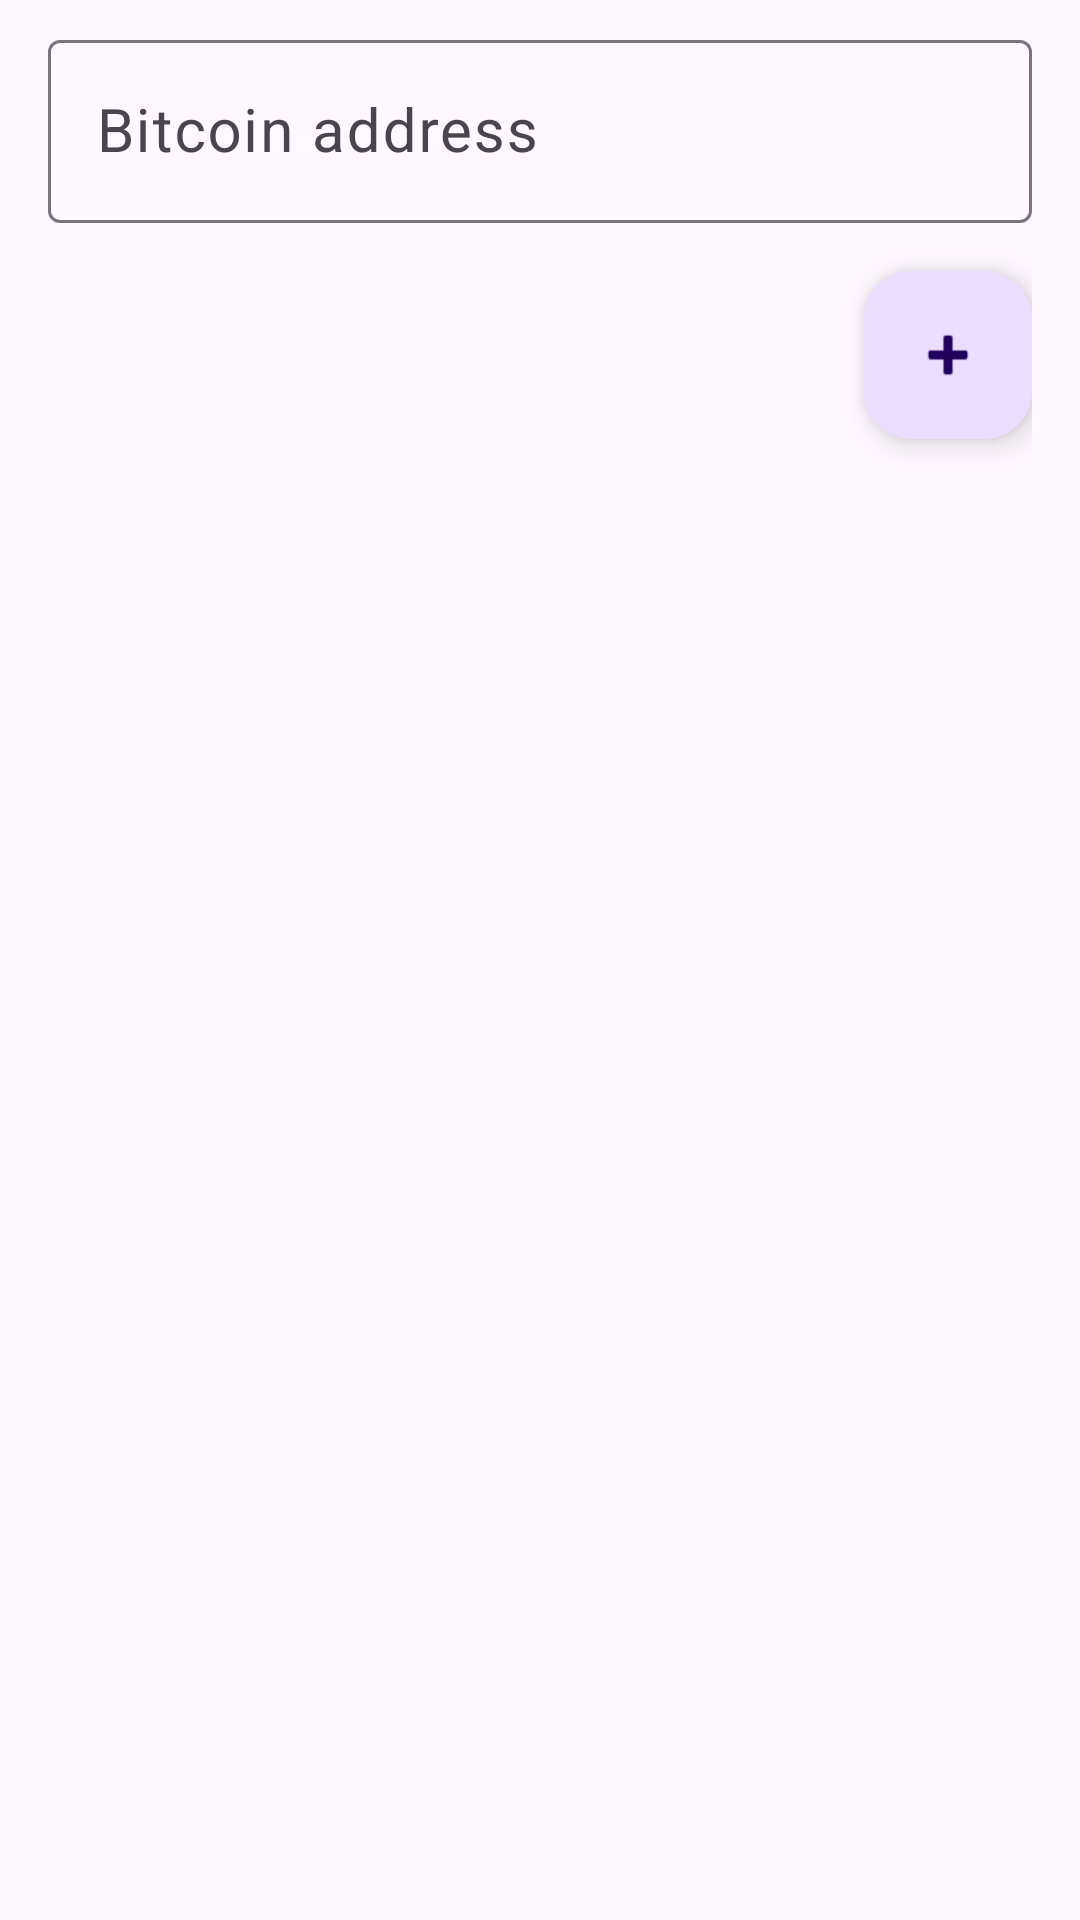

Icons on this 1080px×1920px Android screen, each with the point to tap as point (x, y):
add: point (948, 355)
